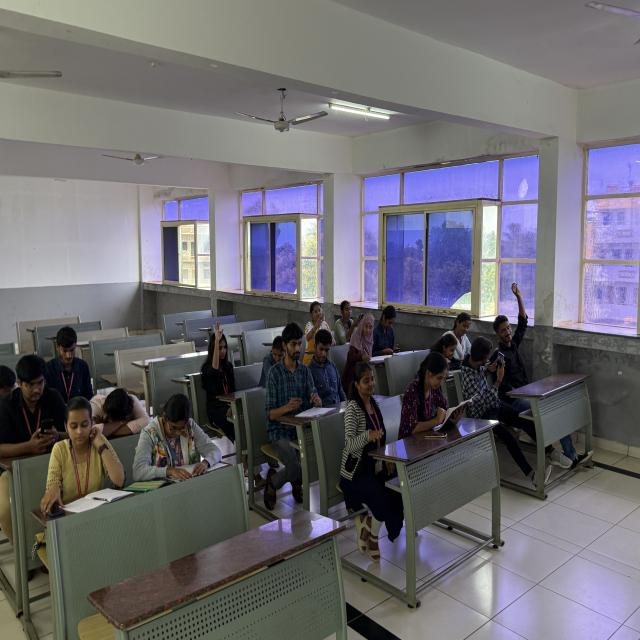Hand Rising: (200, 318, 245, 410), (494, 280, 536, 361)
Reading: (130, 391, 228, 490), (50, 395, 132, 508), (395, 352, 484, 432)
Sleeping: (86, 385, 156, 447)
Using Phone: (462, 334, 518, 416), (372, 306, 405, 356), (335, 299, 366, 339)
Writing: (265, 326, 336, 432), (346, 314, 394, 364)
